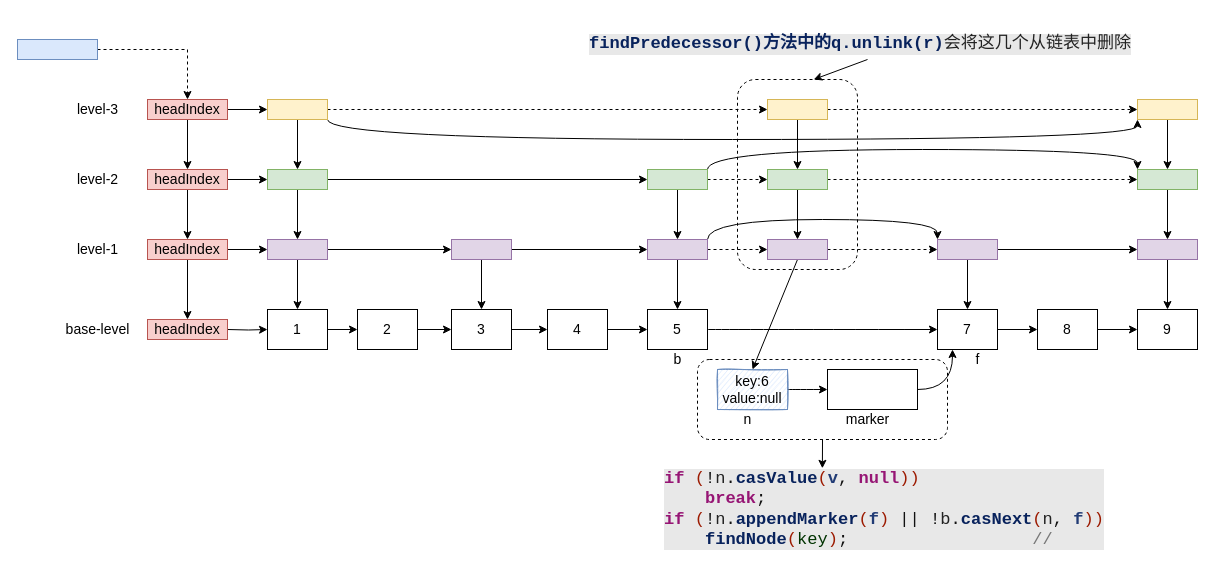
The diagram is 1215 pixels wide and 585 high, and some of its shapes have lost their labels. Here are the shapes that lost their labels. From the top down, the box of each, then its label:
(16, 38, 98, 60): head
(826, 368, 918, 410): key:null value: this
